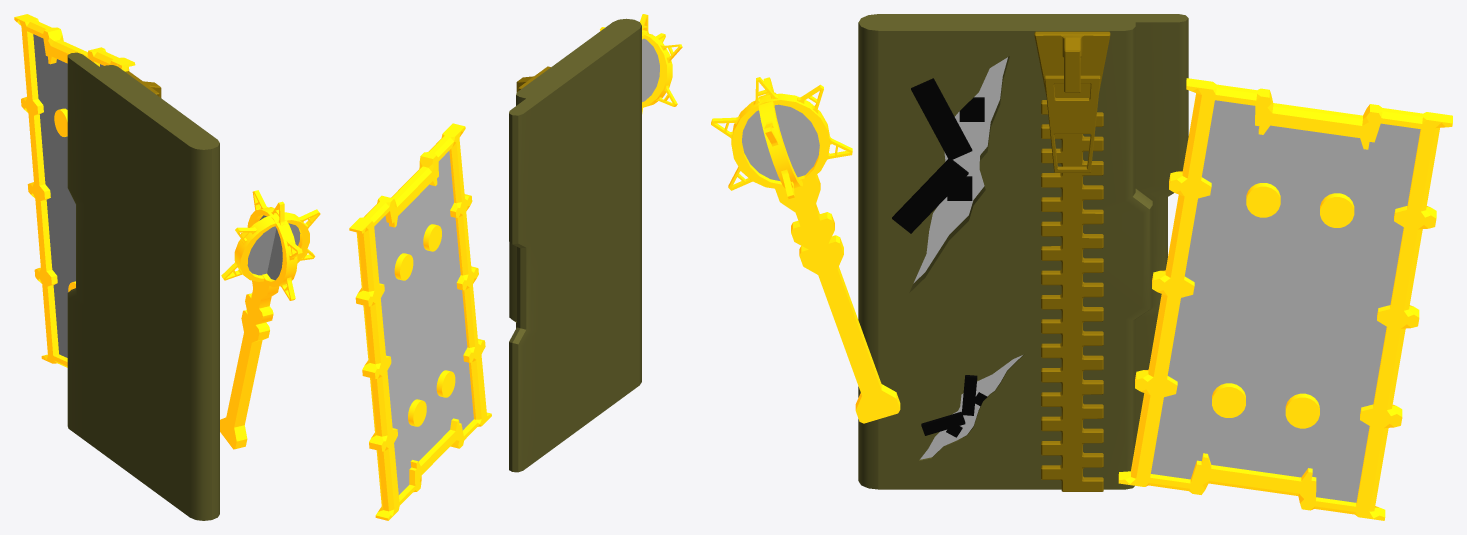
The model's file is Lvl 5 Zip.fbx.
3 renders of one model, left to right at view 1: azimuth 30°, elevation 25°; view 2: azimuth 150°, elevation 25°; view 3: azimuth 270°, elevation 25°, orthographic. The views are drawn at different scales.
Parts seen in each view (by area): view 1: Zip_Troop_; view 2: Zip_Troop_; view 3: Zip_Troop_.
Boxes of the visible parts, left/top/right/bottom form: Zip_Troop_: left=14, top=14, right=320, bottom=520; Zip_Troop_: left=349, top=14, right=682, bottom=520; Zip_Troop_: left=711, top=14, right=1452, bottom=520.
Size of the model in its own units: 0.4761 by 1.87 by 2.7.
